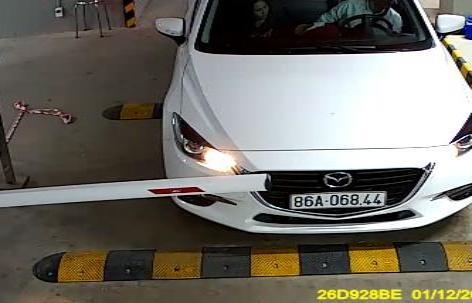plate: (290, 189, 386, 210)
